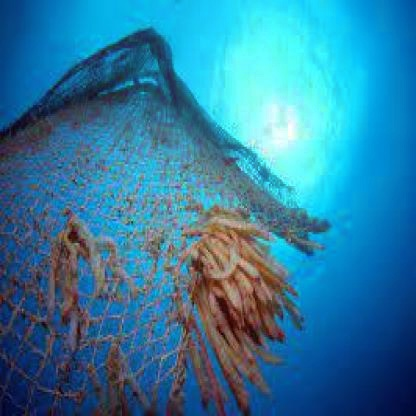net: (1, 76, 234, 416)
